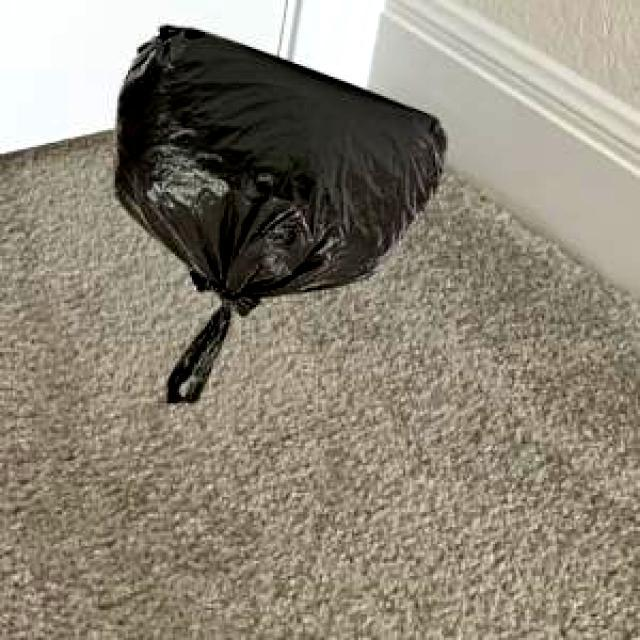Garbage_Bag: (112, 22, 443, 400)
